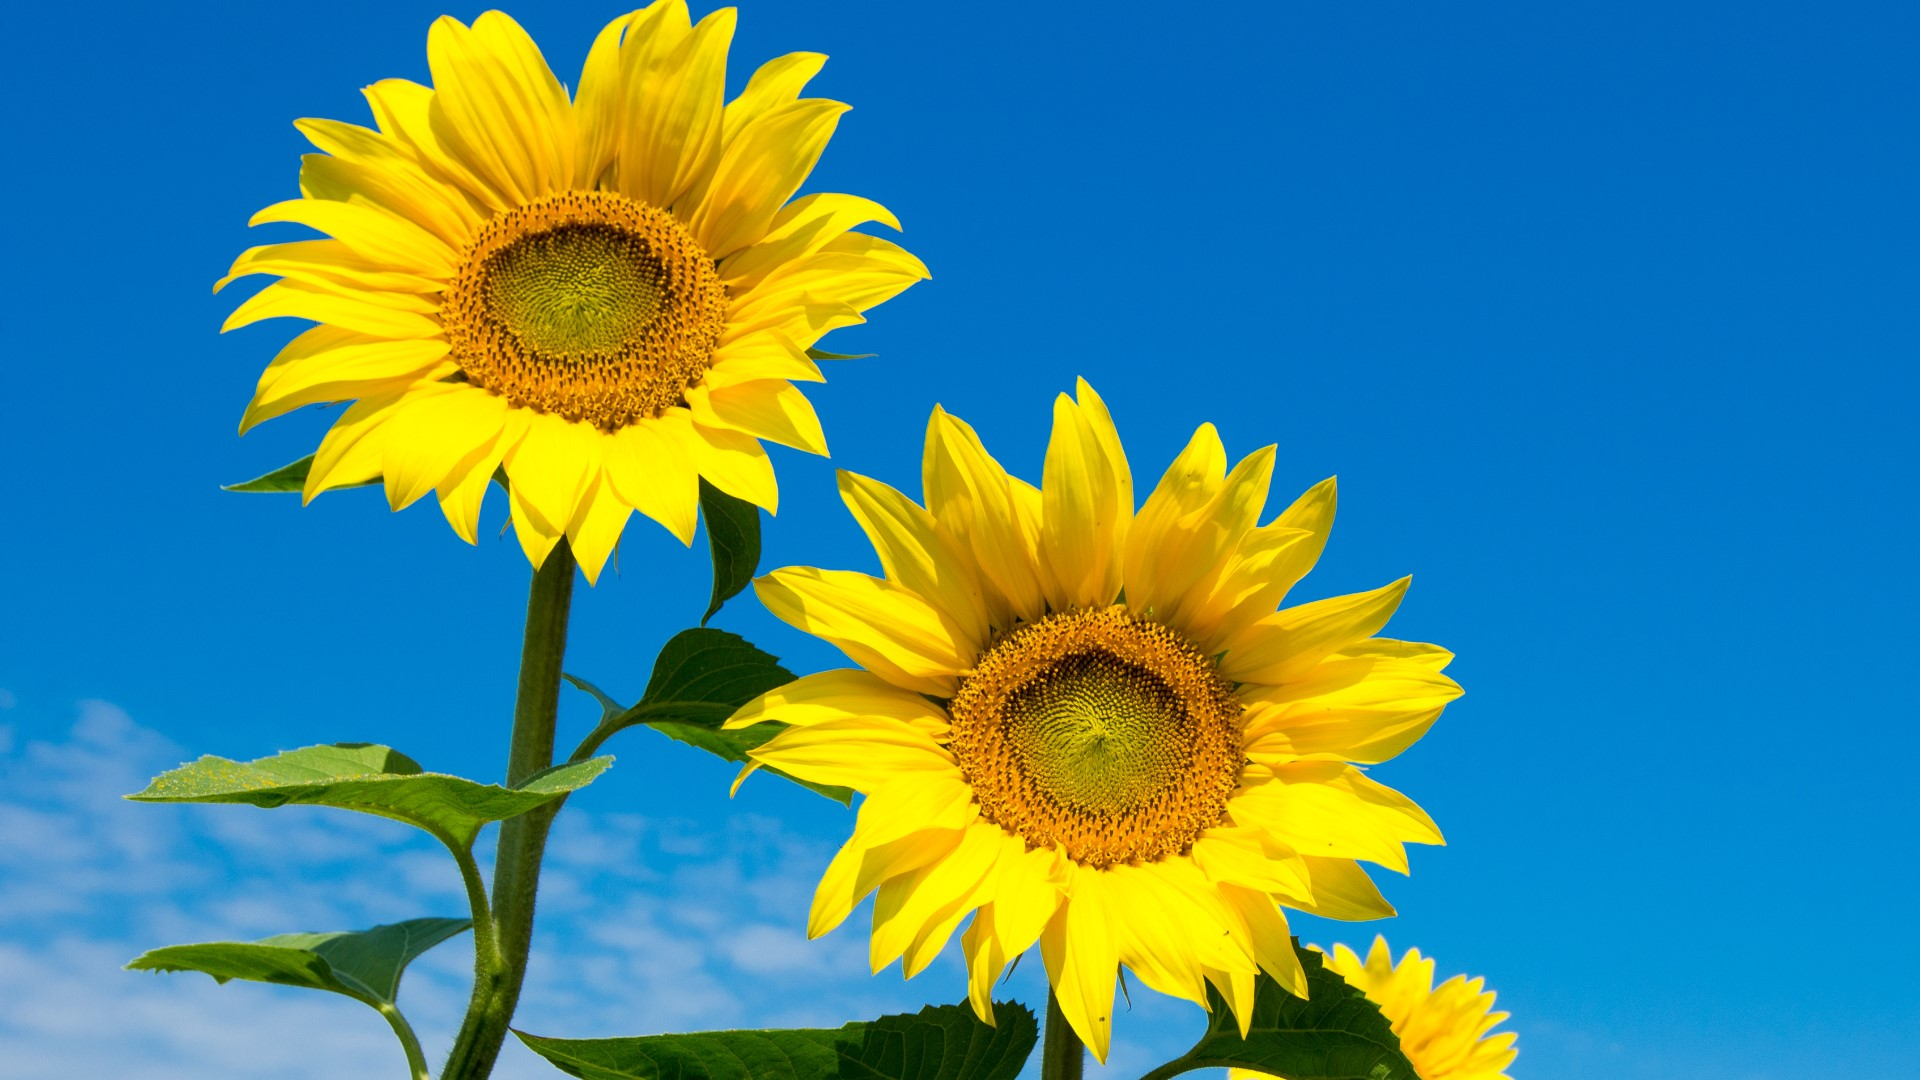Sunflower: (738, 375, 1445, 1010), (233, 8, 899, 553)
